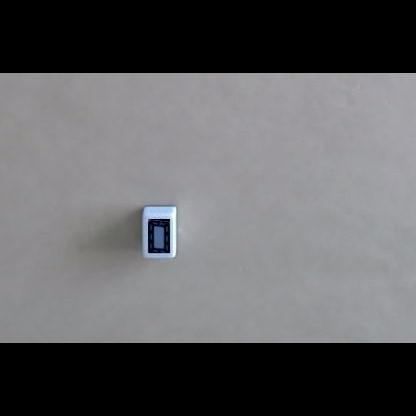5z: (148, 219, 170, 253)
